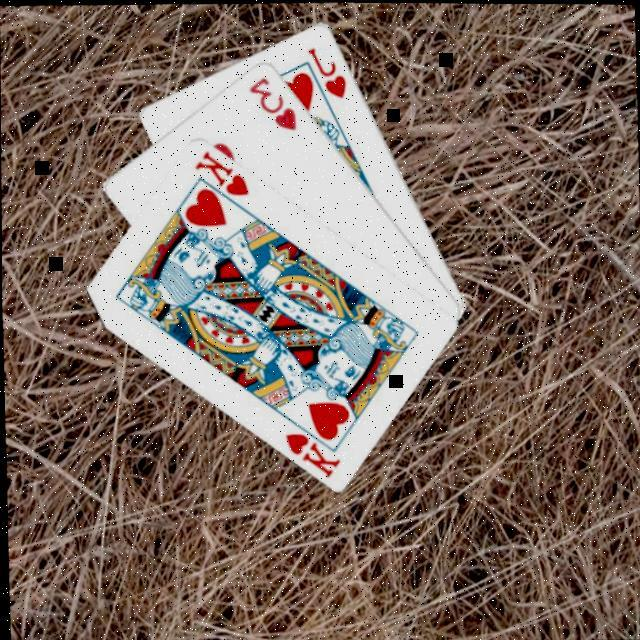3H: (244, 74, 298, 134)
JH: (304, 44, 348, 104)
KH: (280, 428, 341, 482), (190, 147, 250, 200)
